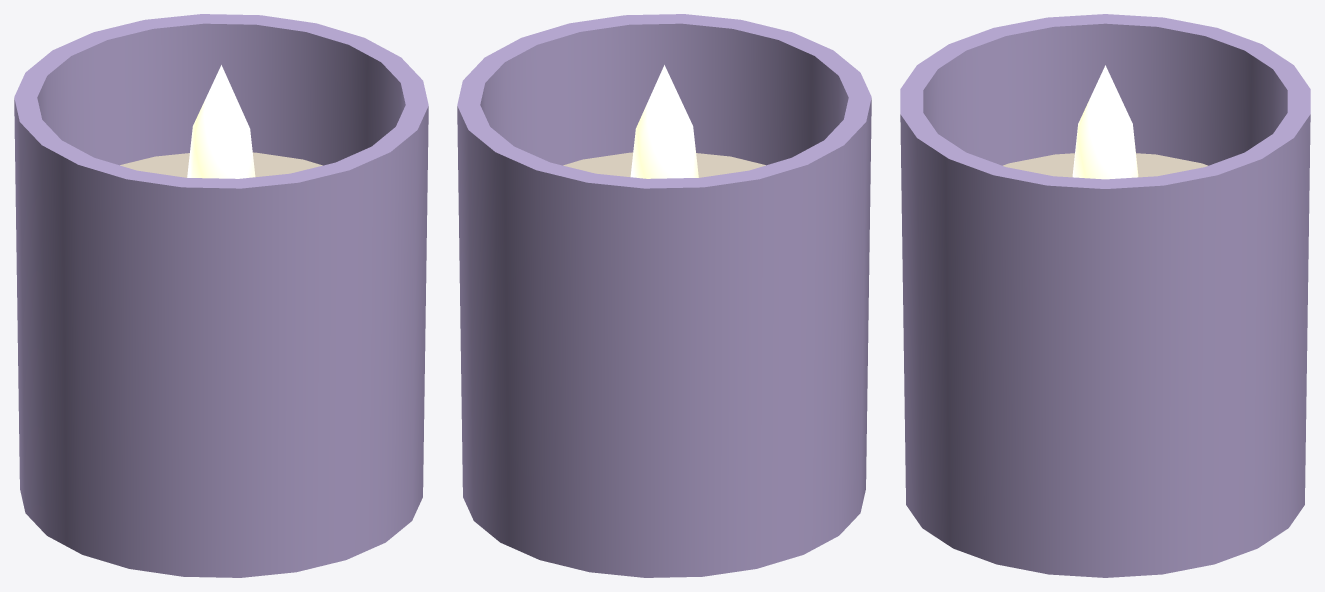
File: candle.fbx
3 views of the same model, side by side, from view 1: azimuth 30°, elevation 25°; view 2: azimuth 150°, elevation 25°; view 3: azimuth 270°, elevation 25° (orthographic).
Visible parts, largest first — view 1: candle, Candle_Flame; view 2: candle, Candle_Flame; view 3: candle, Candle_Flame.
Part boxes in pixels (x1=…): candle: x1=14, y1=14, x2=428, y2=577; Candle_Flame: x1=187, y1=65, x2=255, y2=178; candle: x1=457, y1=14, x2=871, y2=577; Candle_Flame: x1=630, y1=65, x2=698, y2=178; candle: x1=900, y1=14, x2=1310, y2=577; Candle_Flame: x1=1072, y1=65, x2=1138, y2=179.
Size of the model in its own units: 0.072 by 0.082 by 0.0713.
